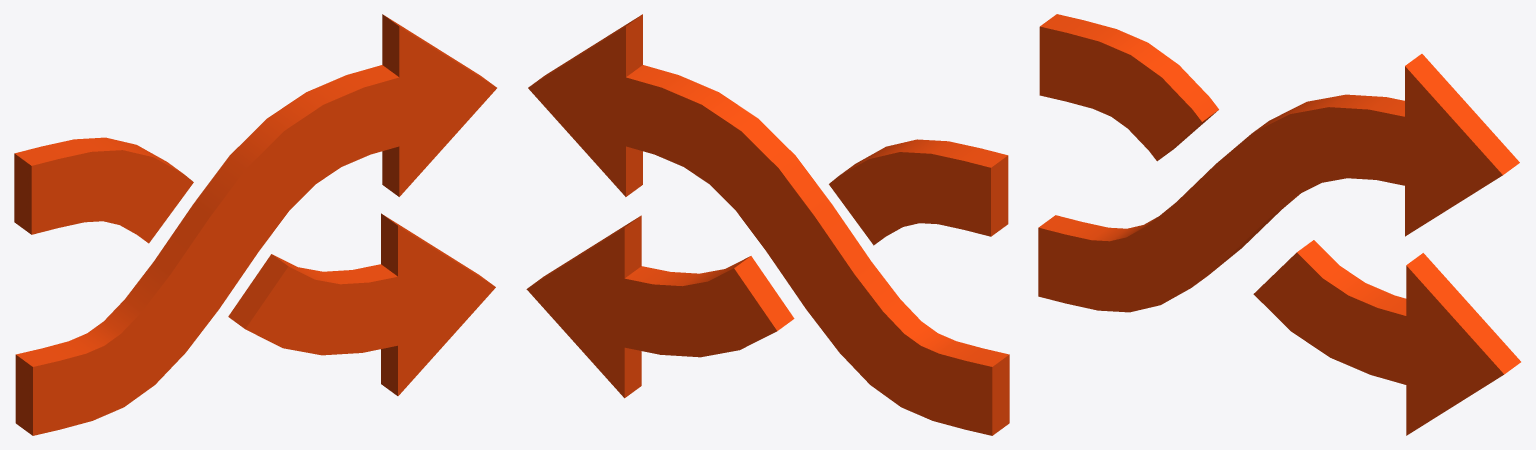
Rendered from Icon_Flip_Ctrl.FBX.
3 renders of one model, left to right at view 1: azimuth 30°, elevation 25°; view 2: azimuth 150°, elevation 25°; view 3: azimuth 330°, elevation 25°, orthographic.
Parts seen in each view (by area): view 1: Icon_Flip_Ctrl; view 2: Icon_Flip_Ctrl; view 3: Icon_Flip_Ctrl.
Part boxes in pixels (left/top/right/bottom): Icon_Flip_Ctrl: left=14, top=14, right=496, bottom=435; Icon_Flip_Ctrl: left=526, top=14, right=1009, bottom=435; Icon_Flip_Ctrl: left=1038, top=14, right=1520, bottom=435.
Bounding box in the file's own units: 0.5038 × 0.3844 × 0.0346.
